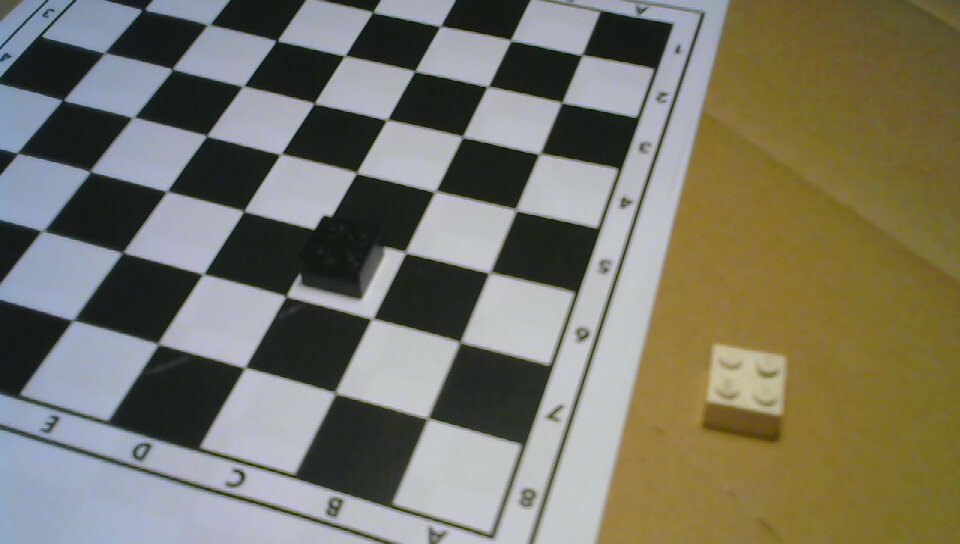bp: (299, 215, 386, 299)
wp: (701, 343, 788, 439)
